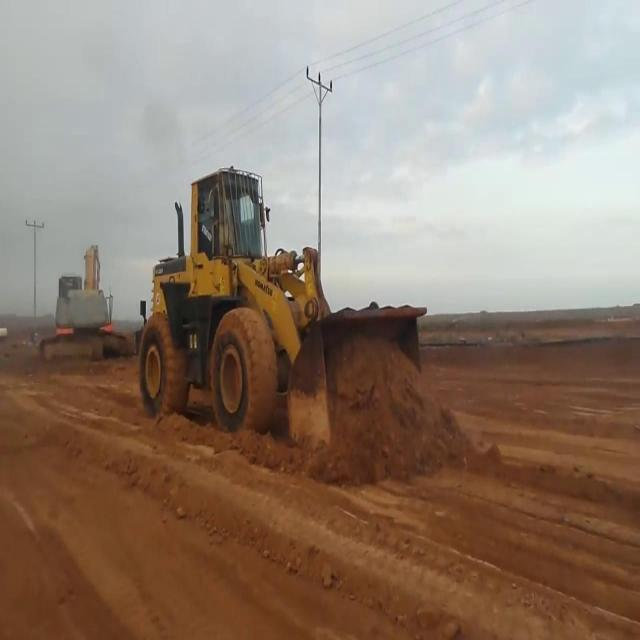Excavator: (39, 241, 128, 363)
Loader: (138, 172, 426, 452)
